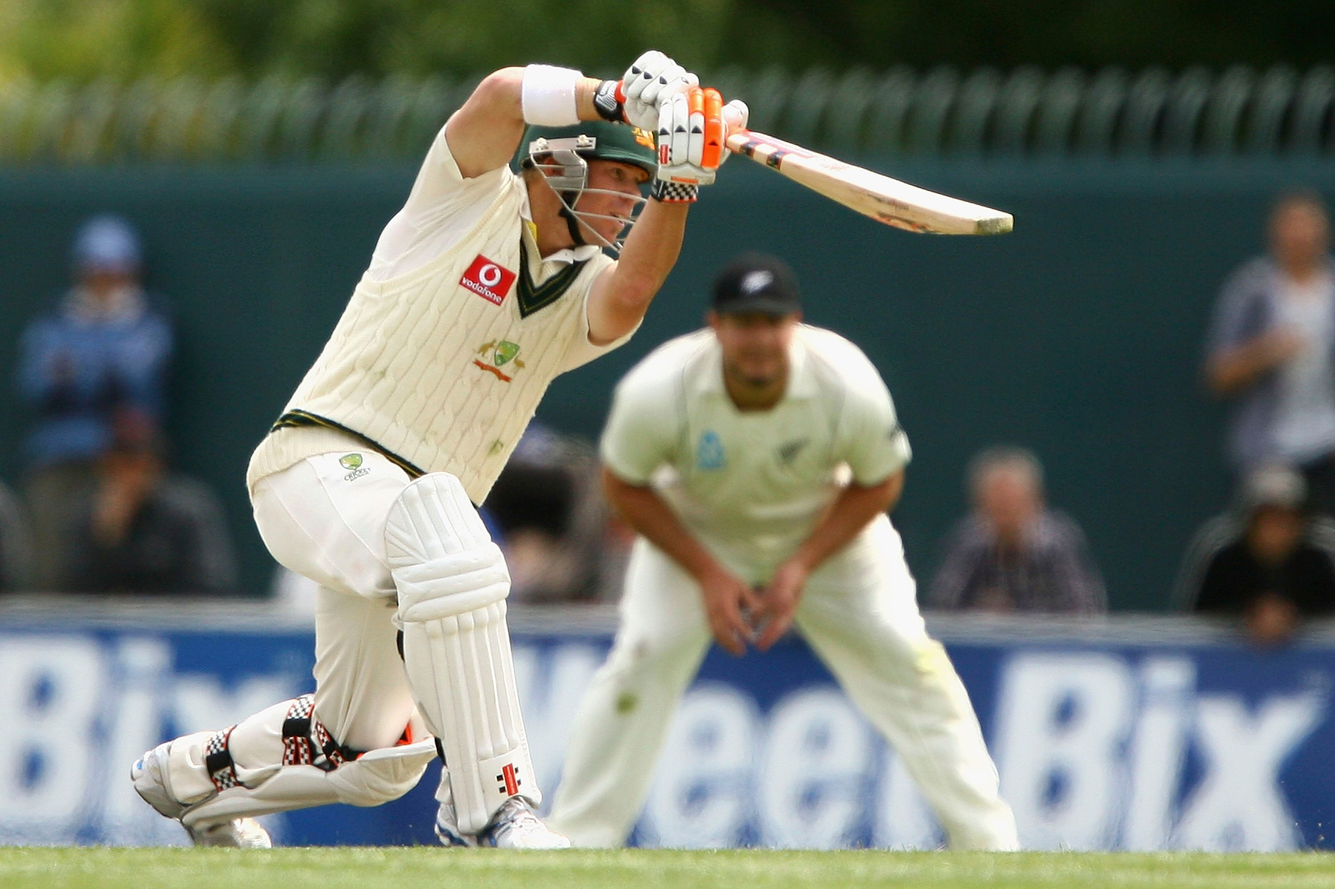Defence: (96, 5, 1054, 889)
